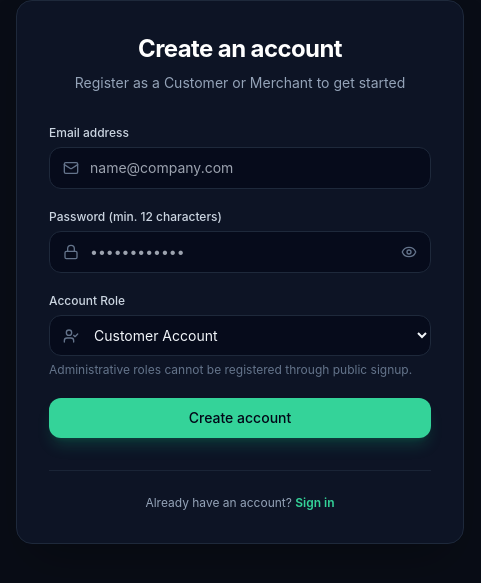
Scenario: RegisterForm Component › enforces 12-character minimum password constraint
In the field labelled "Email address": (240, 168) [49,147,431,189], type "test@example.com"
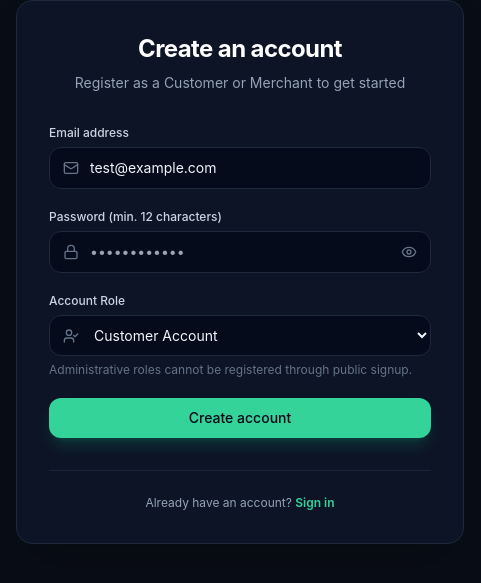
In the password field labelled "Password (min. 12 characters)": (240, 252) [49,231,431,273], type "shortpass1"
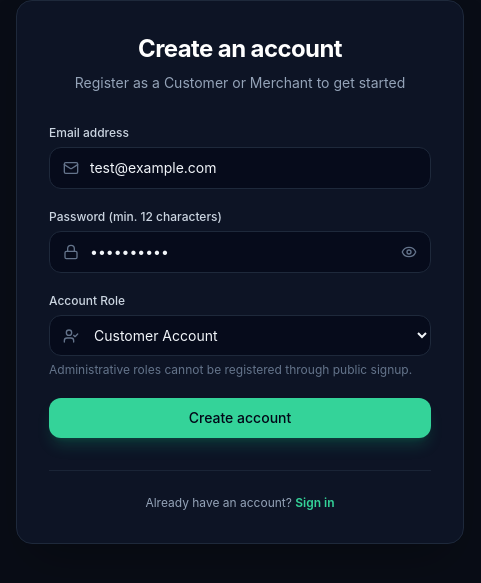
Click the button "Create account": (240, 418) [49,398,431,438]
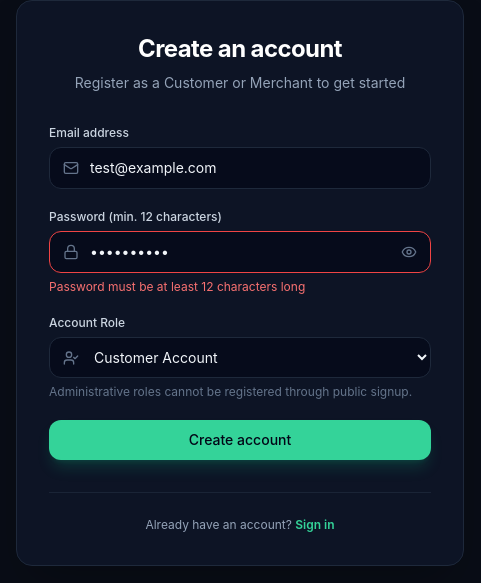
Expected: the text "Password must be at least 12 characters long" is shown, [49,279,305,294]
